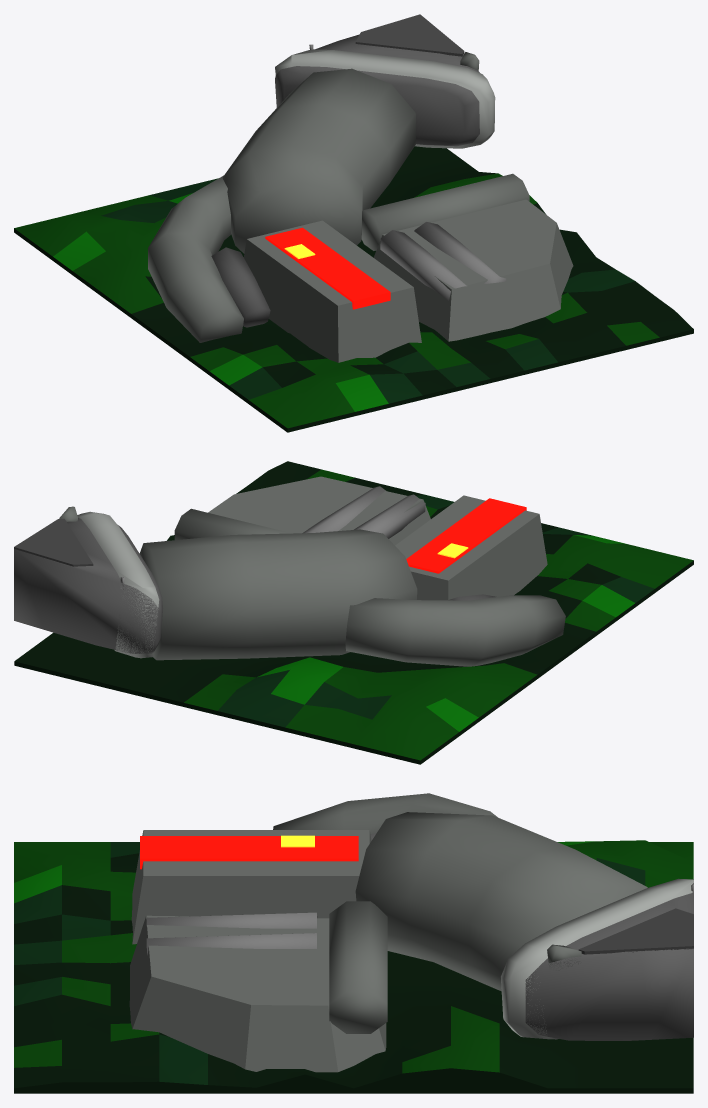
The model's file is newshg-203.glb.
3 renders of one model, top to bottom at view 1: azimuth 30°, elevation 25°; view 2: azimuth 150°, elevation 25°; view 3: azimuth 270°, elevation 25°, orthographic. The views are drawn at different scales.
Visible parts, largest first — view 1: newshg-203; view 2: newshg-203; view 3: newshg-203.
Part boxes in pixels (x1,y1,x2,y2): newshg-203: (14,14,693,432); newshg-203: (14,461,693,764); newshg-203: (14,793,693,1093).
Size of the model in its own units: 2 by 0.5949 by 2.33.
